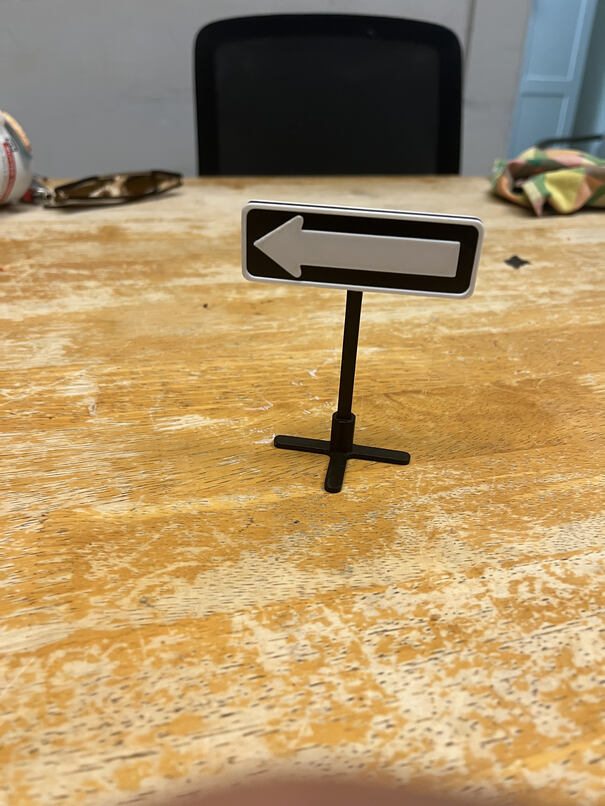sign_oneway_left: (243, 203, 482, 307)
